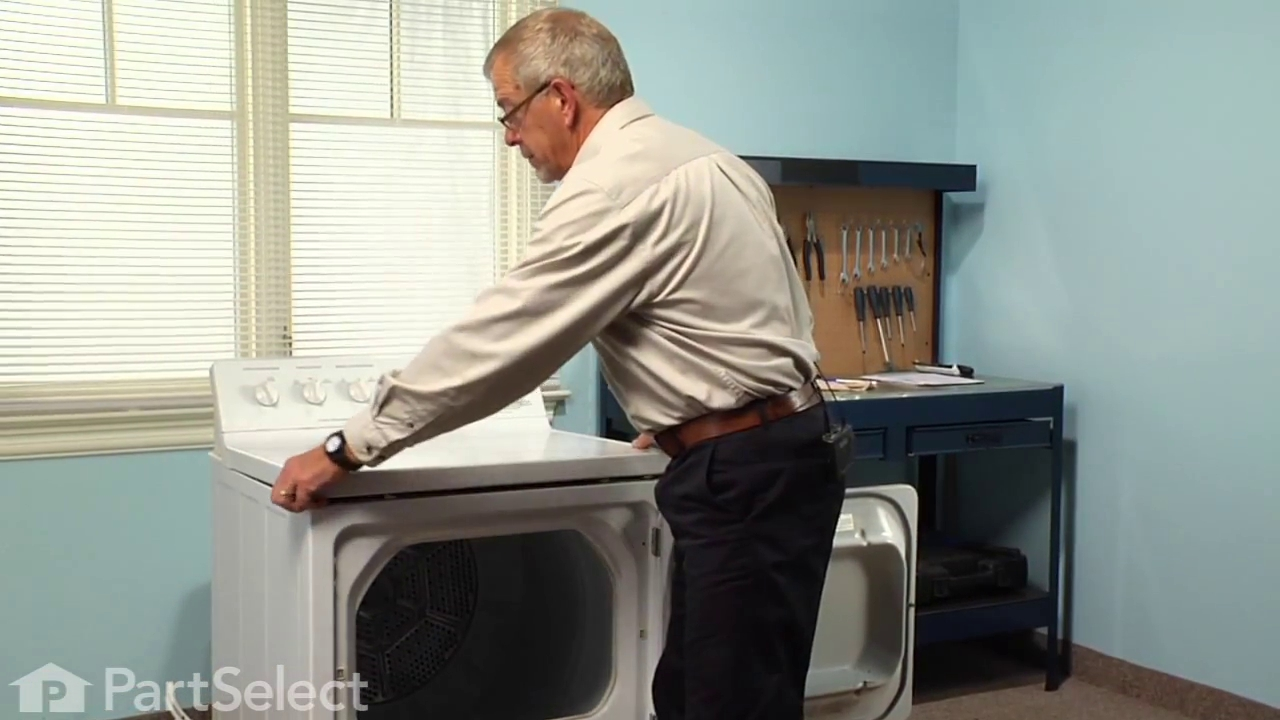person: (272, 8, 857, 720)
